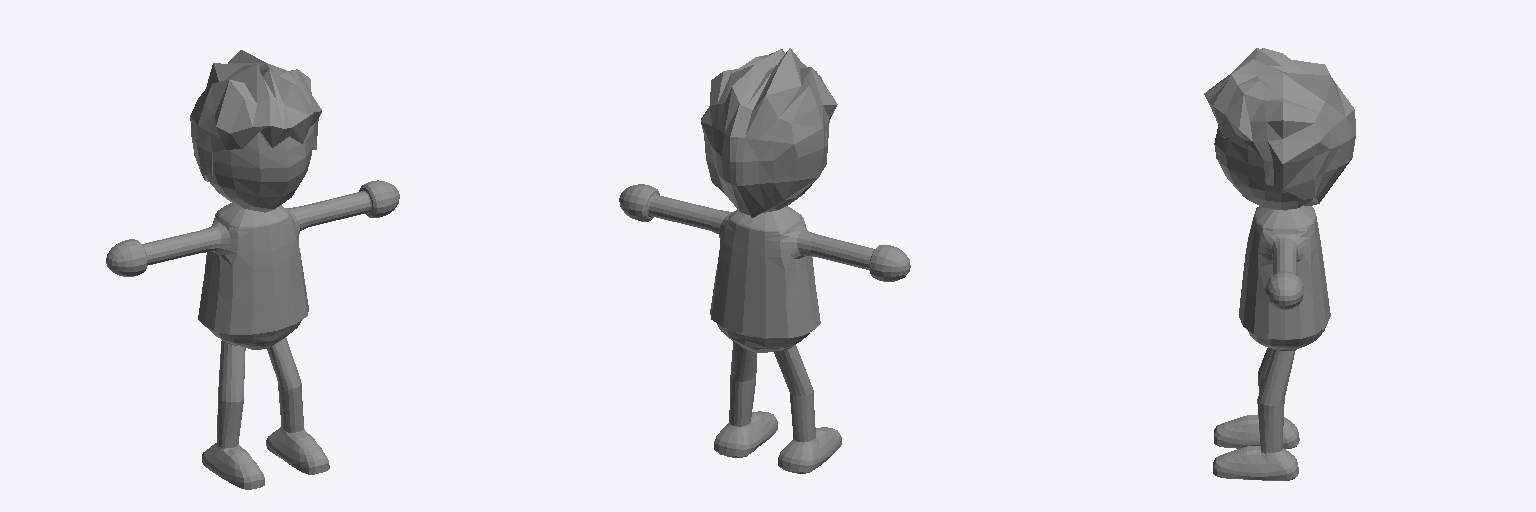
The model's file is Mii.obj.
3 views of the same model, side by side, from view 1: azimuth 30°, elevation 25°; view 2: azimuth 150°, elevation 25°; view 3: azimuth 270°, elevation 25° (orthographic).
Parts seen in each view (by area): view 1: Mii; view 2: Mii; view 3: Mii.
Part boxes in pixels (x1,y1,x2,y2): Mii: (106, 50, 399, 489); Mii: (619, 48, 910, 473); Mii: (1204, 48, 1355, 480).
Size of the model in its own units: 225 by 302 by 103.